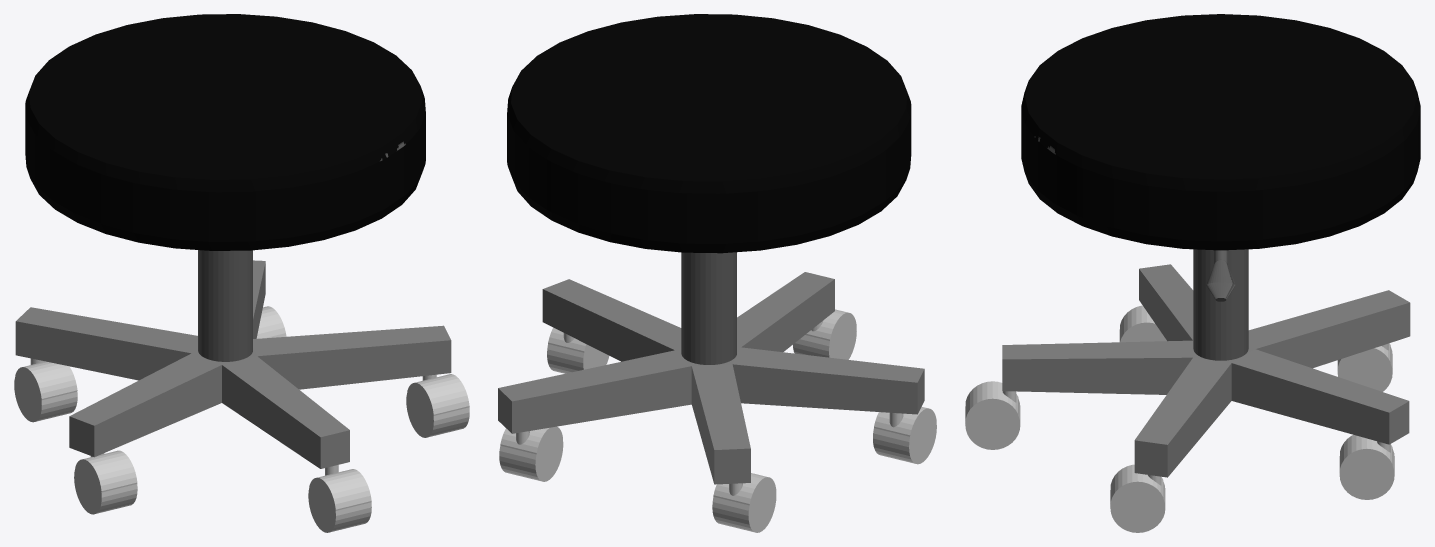
The model's file is Wheelie_Stool.fbx.
The picture shows the model from 3 angles, left to right: view 1: azimuth 30°, elevation 25°; view 2: azimuth 150°, elevation 25°; view 3: azimuth 270°, elevation 25°; orthographic projection.
Parts seen in each view (by area): view 1: Cylinder, Circle, Cylinder.003, Cylinder.002, Cylinder.006, Cylinder.005, Cylinder.004; view 2: Cylinder, Circle, Cylinder.005, Cylinder.006, Cylinder.004, Cylinder.003, Cylinder.002; view 3: Cylinder, Circle, Cylinder.003, Cylinder.002, Cylinder.004, Cylinder.005, Cylinder.006, Cylinder.001.
Boxes of the visible parts, x1,y1,x2,y2 form: Cylinder: (25, 14, 425, 361); Circle: (15, 260, 451, 468); Cylinder.003: (308, 465, 371, 532); Cylinder.002: (406, 374, 469, 437); Cylinder.006: (74, 450, 137, 514); Cylinder.005: (14, 358, 77, 422); Cylinder.004: (256, 306, 286, 338); Cylinder: (507, 14, 911, 364); Circle: (498, 272, 924, 484); Cylinder.005: (712, 473, 776, 532); Cylinder.006: (873, 407, 936, 464); Cylinder.004: (499, 426, 563, 481); Cylinder.003: (793, 309, 856, 359); Cylinder.002: (547, 327, 609, 373); Cylinder: (1021, 14, 1420, 360); Circle: (1002, 264, 1410, 477); Cylinder.003: (965, 381, 1020, 449); Cylinder.002: (1110, 464, 1165, 532); Cylinder.004: (1339, 435, 1394, 499); Cylinder.005: (1337, 343, 1392, 391); Cylinder.006: (1119, 305, 1166, 342); Cylinder.001: (1206, 250, 1235, 301).
Bounding box in the file's own units: 1564 × 1381 × 1654.
